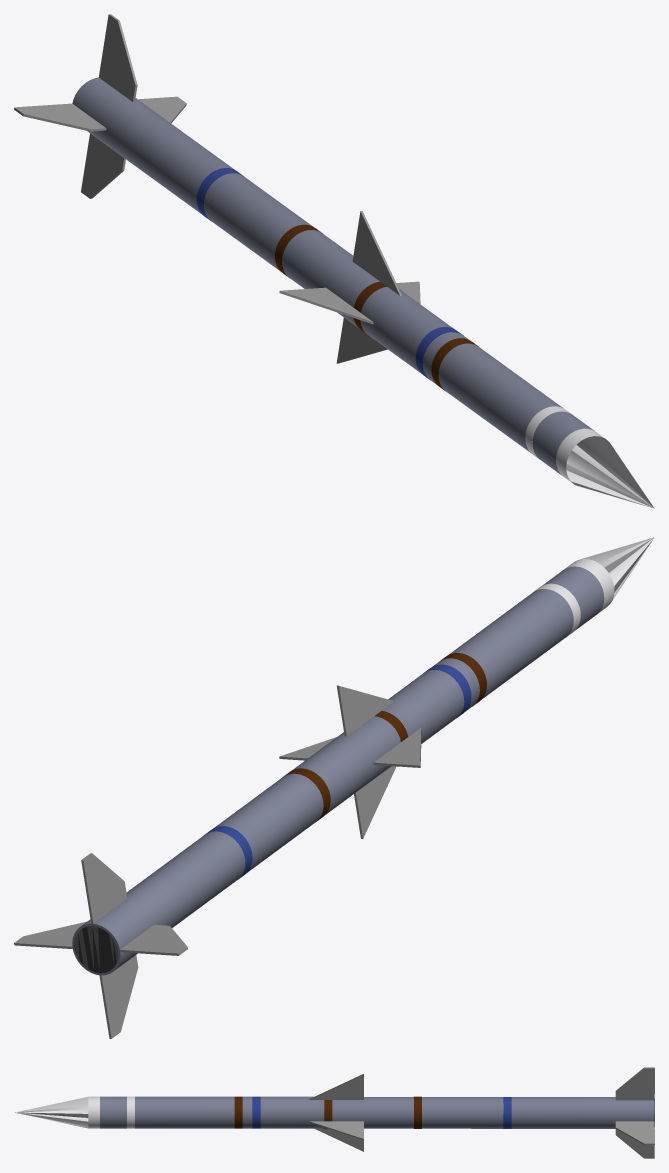
Rendered from missile.obj.
3 renders of one model, top to bottom at view 1: azimuth 30°, elevation 25°; view 2: azimuth 150°, elevation 25°; view 3: azimuth 270°, elevation 25°, orthographic. The views are drawn at different scales.
Visible parts, largest first — view 1: Cylinder_5, Cylinder_7, Cylinder_8, 11, Cylinder_4, Cylinder_6, Mesh_1_21, Mesh_22, Mesh_13, Cylinder_10, Cube_1_1_1_53; view 2: Cylinder_5, Cylinder_7, Cylinder_8, Cylinder_4, Cylinder_6, 1, 11, Mesh_1_21, Mesh_22, Cylinder_3, Mesh_13, Cube_1_1_1_53 (+2 smaller); view 3: Cylinder_5, Cylinder_7, Cylinder_8, Cylinder_4, Cylinder_6, 11, Mesh_19, Mesh_1_18, Mesh_1_24, Cylinder_10, Cube_1_1_1_53, Mesh_3_3_55 (+13 smaller).
Boxes of the visible parts, left/top/right/bottom form: Cylinder_5: left=134, top=123, right=403, bottom=336; Cylinder_7: left=408, top=321, right=527, bottom=426; Cylinder_8: left=488, top=379, right=588, bottom=471; 11: left=566, top=436, right=654, bottom=508; Cylinder_4: left=82, top=85, right=173, bottom=170; Cylinder_6: left=364, top=290, right=446, bottom=368; Mesh_1_21: left=352, top=211, right=399, bottom=295; Mesh_22: left=336, top=317, right=387, bottom=363; Mesh_13: left=280, top=287, right=372, bottom=321; Cylinder_10: left=556, top=428, right=607, bottom=486; Cube_1_1_1_53: left=98, top=14, right=119, bottom=83; Cylinder_5: left=144, top=707, right=412, bottom=924; Cylinder_7: left=417, top=616, right=536, bottom=722; Cylinder_8: left=497, top=571, right=597, bottom=663; Cylinder_4: left=104, top=877, right=183, bottom=962; Cylinder_6: left=386, top=675, right=456, bottom=743; 1: left=74, top=926, right=118, bottom=973; 11: left=582, top=537, right=654, bottom=599; Mesh_1_21: left=339, top=686, right=394, bottom=735; Mesh_22: left=356, top=766, right=396, bottom=838; Cylinder_3: left=72, top=916, right=130, bottom=975; Mesh_13: left=374, top=728, right=421, bottom=765; Cube_1_1_1_53: left=81, top=853, right=102, bottom=923; Cylinder_5: left=319, top=1097, right=582, bottom=1128; Cylinder_7: left=177, top=1096, right=268, bottom=1128; Cylinder_8: left=107, top=1096, right=177, bottom=1128; Cylinder_4: left=582, top=1097, right=643, bottom=1128; Cylinder_6: left=269, top=1096, right=318, bottom=1128; 11: left=14, top=1097, right=88, bottom=1128; Mesh_19: left=310, top=1074, right=363, bottom=1099; Mesh_1_18: left=310, top=1121, right=363, bottom=1138; Mesh_1_24: left=315, top=1128, right=363, bottom=1151; Cylinder_10: left=88, top=1096, right=99, bottom=1128; Cube_1_1_1_53: left=644, top=1067, right=654, bottom=1100; Mesh_3_3_55: left=616, top=1068, right=644, bottom=1091.
Bounding box in the file's own units: 0.0281 × 0.0281 × 0.1659.
